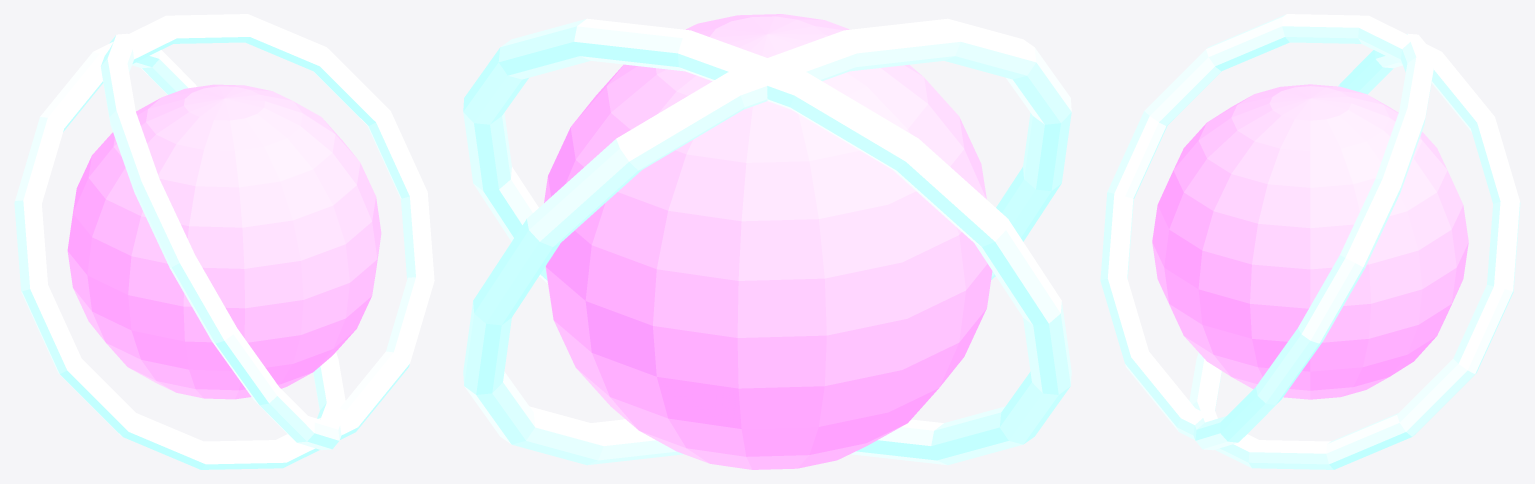
File: bala_plasma_mesh.glb
3 views of the same model, side by side, from view 1: azimuth 30°, elevation 25°; view 2: azimuth 150°, elevation 25°; view 3: azimuth 270°, elevation 25° (orthographic). The views are drawn at different scales.
Visible parts, largest first — view 1: BalaPlasma; view 2: BalaPlasma; view 3: BalaPlasma.
Part boxes in pixels (<box>): BalaPlasma: <box>14,14,434,469</box>; BalaPlasma: <box>463,14,1071,469</box>; BalaPlasma: <box>1100,14,1520,469</box>.
Size of the model in its own units: 0.384 by 0.335 by 0.345.
